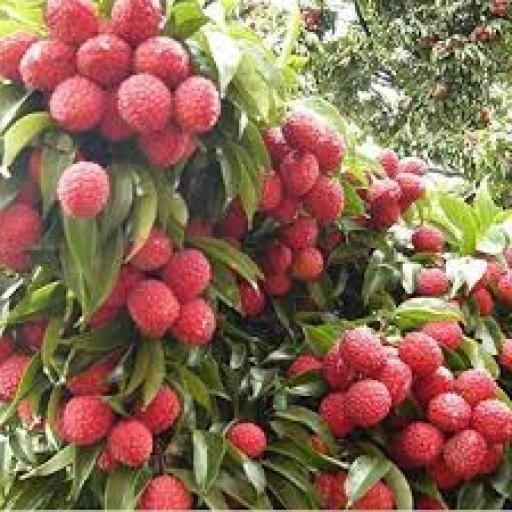lychee: (118, 73, 171, 134), (47, 76, 103, 131), (127, 280, 178, 339), (131, 37, 190, 88), (56, 162, 108, 218), (18, 39, 74, 91), (75, 35, 130, 86), (172, 76, 219, 134), (59, 396, 112, 446), (161, 249, 210, 302), (43, 0, 96, 45), (138, 126, 194, 168), (134, 385, 181, 434), (393, 421, 442, 468), (111, 0, 162, 45), (339, 328, 385, 375), (343, 381, 390, 427), (441, 431, 485, 480), (106, 419, 151, 466), (170, 299, 215, 345), (398, 333, 442, 377), (0, 203, 39, 252), (302, 176, 342, 223), (136, 476, 192, 509), (129, 228, 171, 270), (471, 399, 511, 443), (427, 392, 470, 432), (375, 358, 410, 407), (0, 32, 35, 81), (279, 151, 317, 195), (455, 369, 497, 407), (282, 109, 319, 150), (318, 392, 351, 436), (225, 421, 265, 457), (0, 355, 28, 402), (279, 217, 317, 250), (318, 132, 346, 175), (420, 321, 460, 350), (291, 246, 322, 282), (286, 353, 322, 380), (257, 171, 281, 211), (238, 283, 265, 318), (411, 226, 445, 252), (416, 269, 449, 295)
